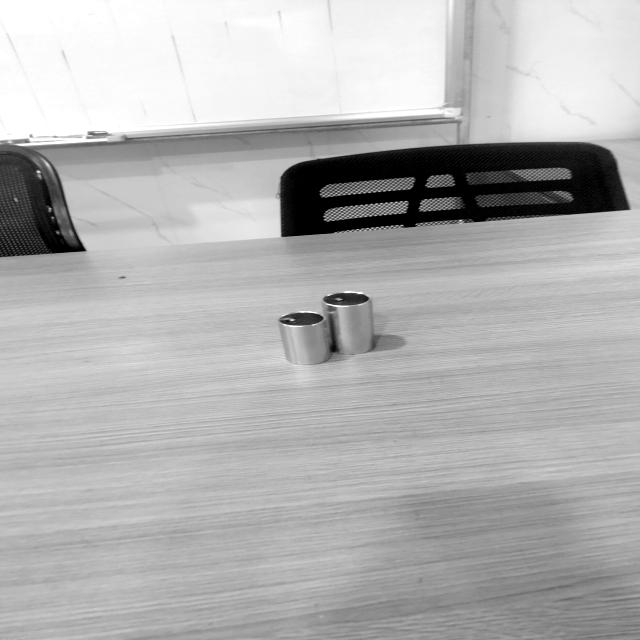Co_Lon: (322, 290, 376, 357)
Co_Nho: (278, 308, 334, 369)
